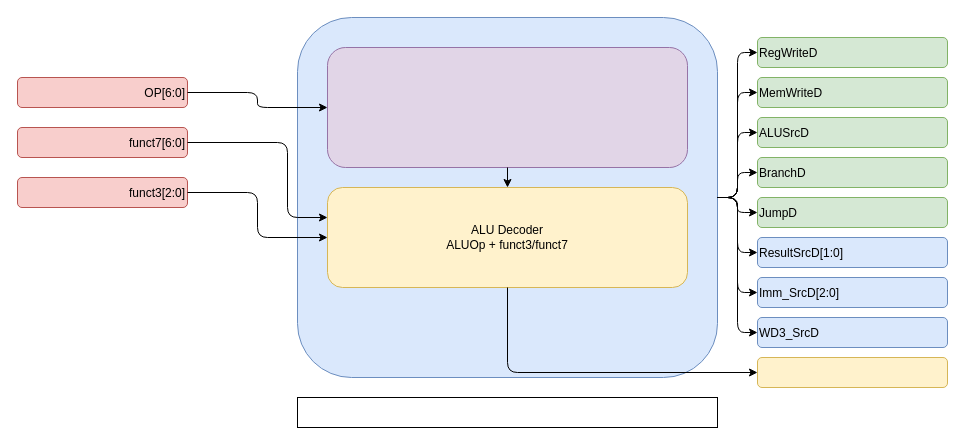
This 965x445 diagram has some shape labels left out. Each missing label, with the centre of its shape:
"ALUControlD[3:0]" goes at (852,372).
"Controller" goes at (507,412).
"Main Decoder Opcode → Control + ALUOp" goes at (507,107).
